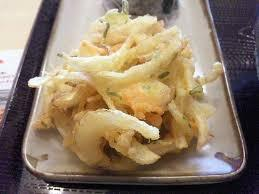kakiage: (58, 18, 206, 161)
